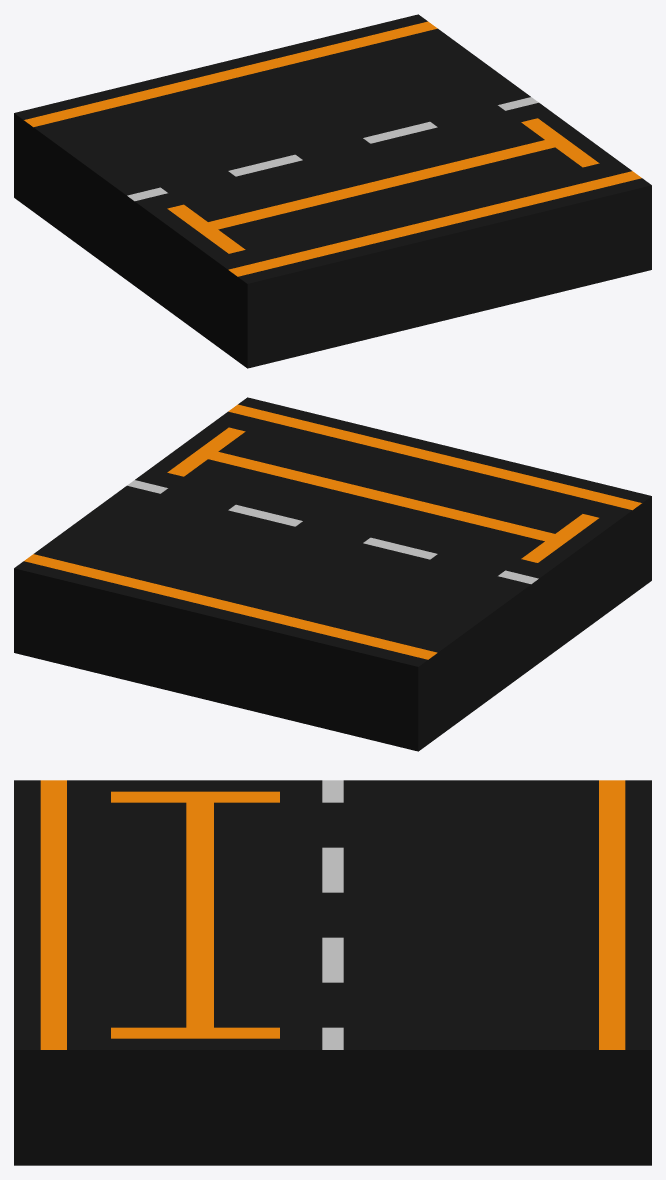
Rendered from straight_road_One_Way.obj.
3 renders of one model, top to bottom at view 1: azimuth 30°, elevation 25°; view 2: azimuth 150°, elevation 25°; view 3: azimuth 270°, elevation 25°, orthographic. The views are drawn at different scales.
Visible parts, largest first — view 1: Cube_Cube.004; view 2: Cube_Cube.004; view 3: Cube_Cube.004.
Part boxes in pixels (x1,y1,x2,y2): Cube_Cube.004: (14,14,651,368); Cube_Cube.004: (14,397,651,751); Cube_Cube.004: (14,780,651,1165).
Bounding box in the file's own units: 1 × 0.2 × 1.
